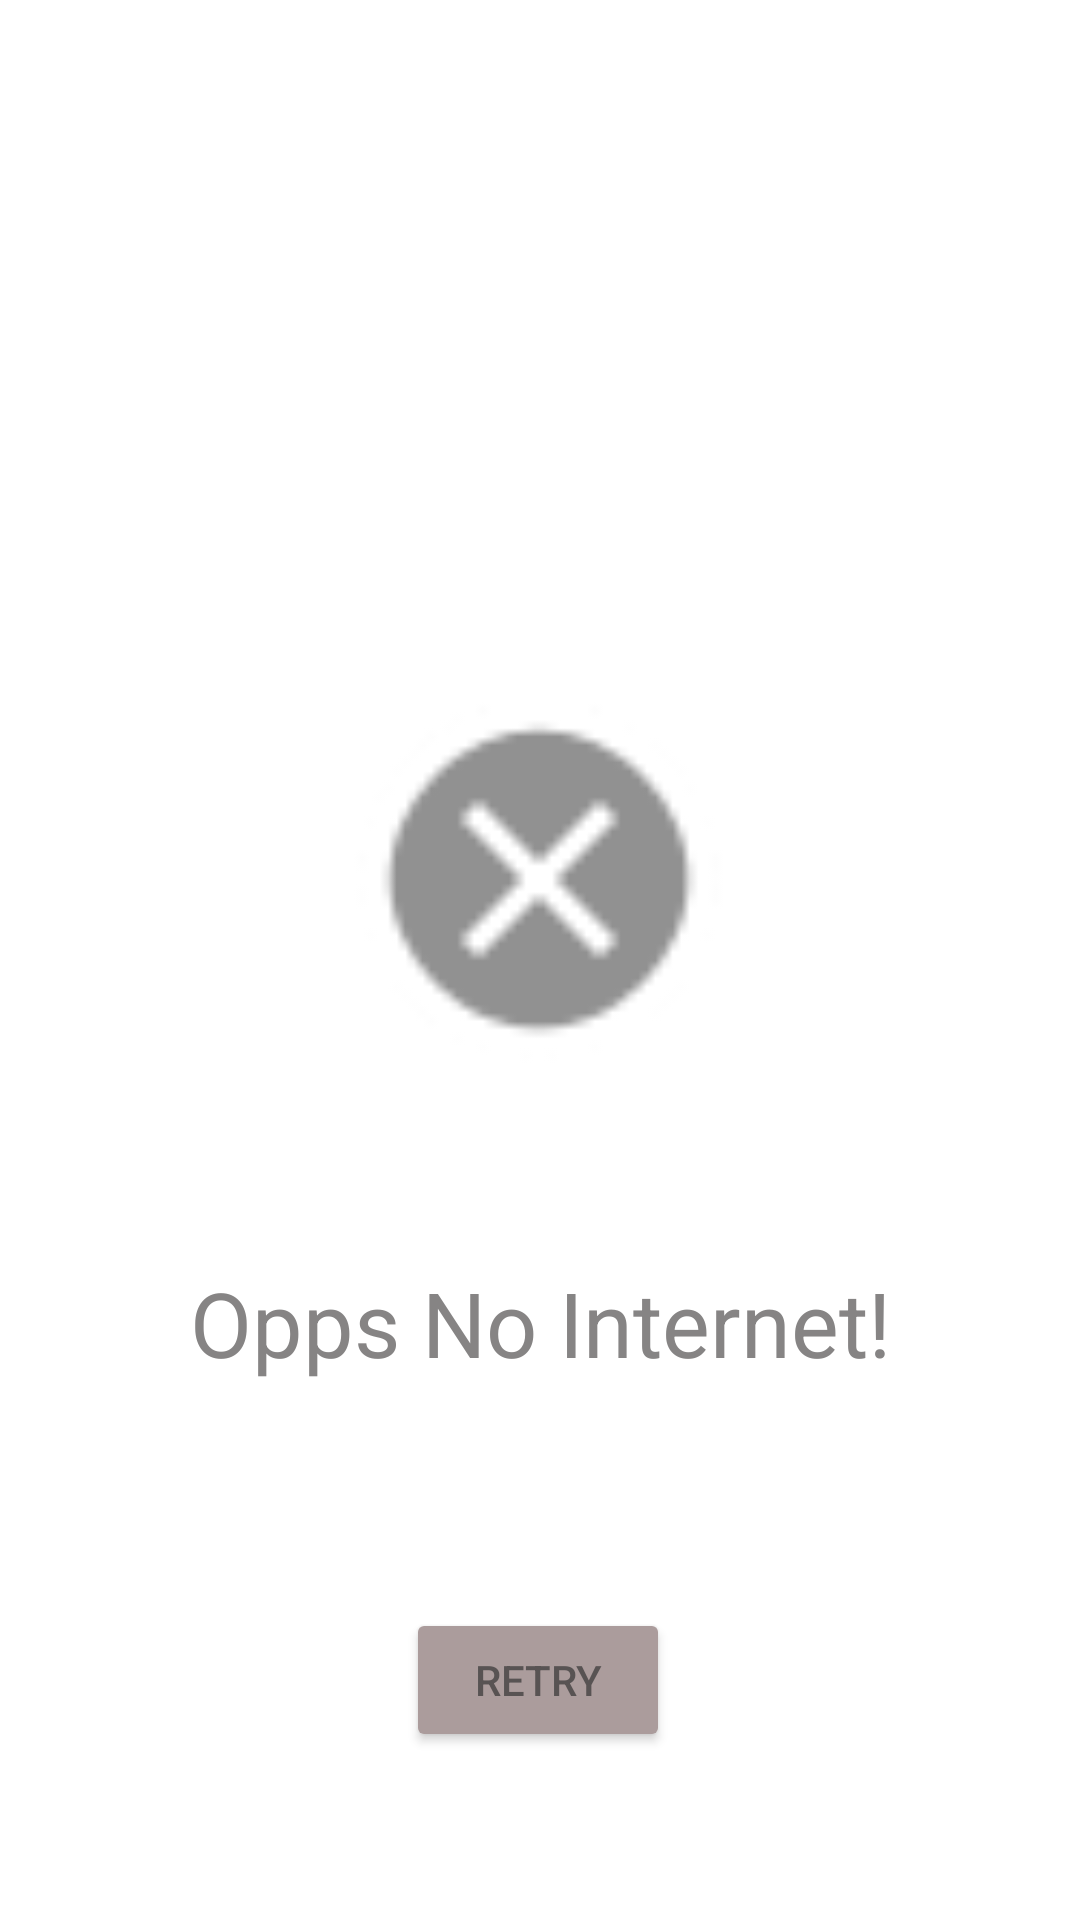

Icon click points for this 1080w x 1920h phone screenshot, format [x,y]:
presence offline: [539,880]
